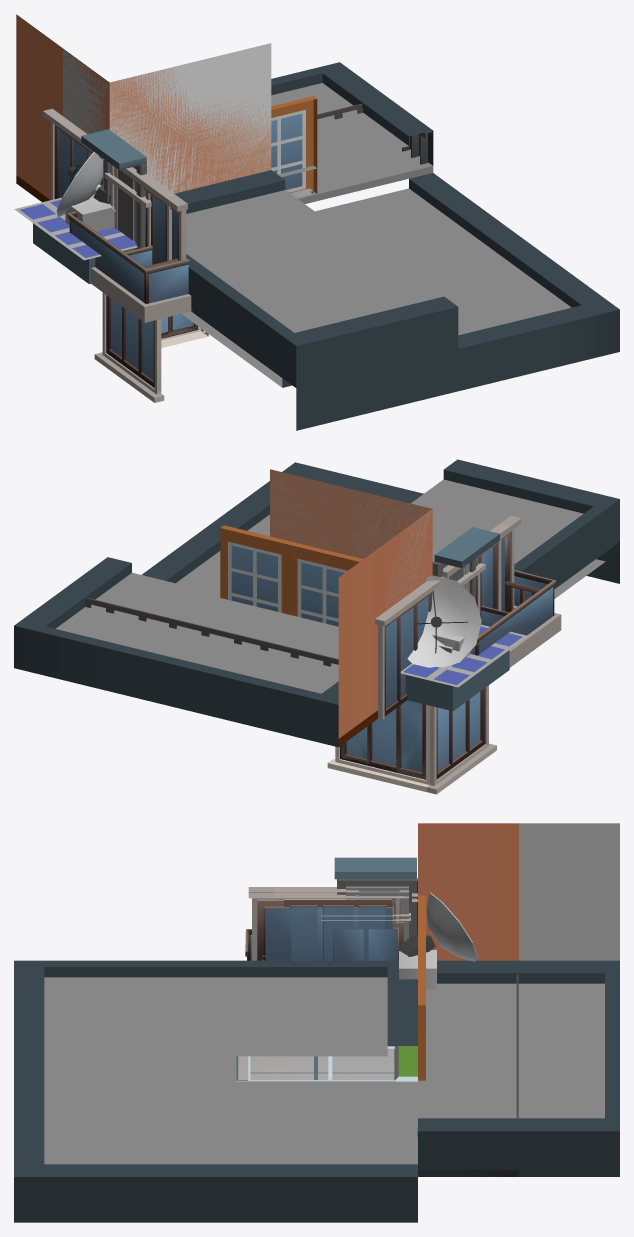
The model's file is RB_T4_Modular_Assets_V01.fbx.
The picture shows the model from 3 angles, top to bottom: view 1: azimuth 30°, elevation 25°; view 2: azimuth 150°, elevation 25°; view 3: azimuth 270°, elevation 25°; orthographic projection. The views are drawn at different scales.
Visible parts, largest first — view 1: RB_T4_Roof_Corner_01, RB_T4_Roof_Side_02, RB_T4_Wall_W_Light_01, RB_T4_Wall_O_Light_01, RB_T4_Roof_Side_01, RB_T04_Balcony_01, RB_T4_Wall_O_Dark_01, RB_T04_Balcony_03, RB_T4_Window_02, RB_T4_Window_04, RB_T4_Roof_Solar_Pannel, RB_T4_Door (+7 smaller); view 2: RB_T4_Roof_Side_01, RB_T4_Roof_Side_02, RB_T4_Wall_O_Dark_01, RB_T4_Window_02, RB_T4_Wall_O_Light_01, RB_T4_Roof_Corner_01, RB_T4_Window_03, RB_T04_Balcony_01, RB_T4_Window_04, RB_T4_Roof_Solar_Pannel, RB_T4_Window_01, RB_T4_Roof_Dish (+6 smaller); view 3: RB_T4_Roof_Corner_01, RB_T4_Roof_Side_01, RB_T4_Roof_Side_02, RB_T4_Wall_W_Dark_01, RB_T4_Wall_O_Dark_02, RB_T04_Balcony_02, RB_T04_Cornar_Tile_01, RB_T4_Door, RB_T04_Balcony_01, RB_T4_Balcony_04, RB_T4_Roof_Dish, RB_T4_Window_02 (+2 smaller).
Boxes of the visible parts, <box> form: RB_T4_Roof_Corner_01: <box>182,173,619,430</box>; RB_T4_Roof_Side_02: <box>174,170,458,388</box>; RB_T4_Wall_W_Light_01: <box>109,43,271,193</box>; RB_T4_Wall_O_Light_01: <box>109,68,271,193</box>; RB_T4_Roof_Side_01: <box>271,62,433,176</box>; RB_T04_Balcony_01: <box>67,164,191,322</box>; RB_T4_Wall_O_Dark_01: <box>16,14,109,202</box>; RB_T04_Balcony_03: <box>297,103,433,203</box>; RB_T4_Window_02: <box>271,96,317,197</box>; RB_T4_Window_04: <box>102,292,198,391</box>; RB_T4_Roof_Solar_Pannel: <box>14,197,137,283</box>; RB_T4_Door: <box>81,129,146,249</box>; RB_T4_Roof_Side_01: <box>14,557,338,747</box>; RB_T4_Roof_Side_02: <box>411,459,619,589</box>; RB_T4_Wall_O_Dark_01: <box>338,509,432,746</box>; RB_T4_Window_02: <box>220,525,362,626</box>; RB_T4_Wall_O_Light_01: <box>270,469,431,559</box>; RB_T4_Roof_Corner_01: <box>142,462,619,598</box>; RB_T4_Window_03: <box>327,687,496,794</box>; RB_T04_Balcony_01: <box>443,515,561,667</box>; RB_T4_Window_04: <box>339,685,488,783</box>; RB_T4_Roof_Solar_Pannel: <box>400,624,527,711</box>; RB_T4_Window_01: <box>375,576,444,719</box>; RB_T4_Roof_Dish: <box>407,575,481,667</box>; RB_T4_Roof_Corner_01: <box>14,1046,417,1222</box>; RB_T4_Roof_Side_01: <box>418,960,619,1176</box>; RB_T4_Roof_Side_02: <box>14,960,417,1056</box>; RB_T4_Wall_W_Dark_01: <box>519,823,619,960</box>; RB_T4_Wall_O_Dark_02: <box>418,823,518,960</box>; RB_T04_Balcony_02: <box>261,887,403,960</box>; RB_T04_Cornar_Tile_01: <box>236,1046,417,1081</box>; RB_T4_Door: <box>334,857,417,941</box>; RB_T04_Balcony_01: <box>245,887,408,960</box>; RB_T4_Balcony_04: <box>321,913,410,960</box>; RB_T4_Roof_Dish: <box>398,892,477,961</box>; RB_T4_Window_02: <box>418,895,425,1080</box>.
Bounding box in the file's own units: 2.38 × 1.64 × 3.
